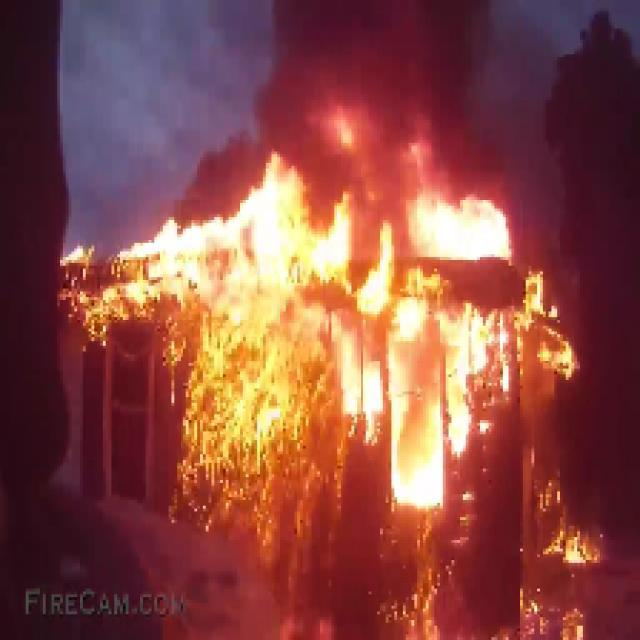Fire: (115, 215, 506, 485)
Smoke: (288, 4, 468, 112)
